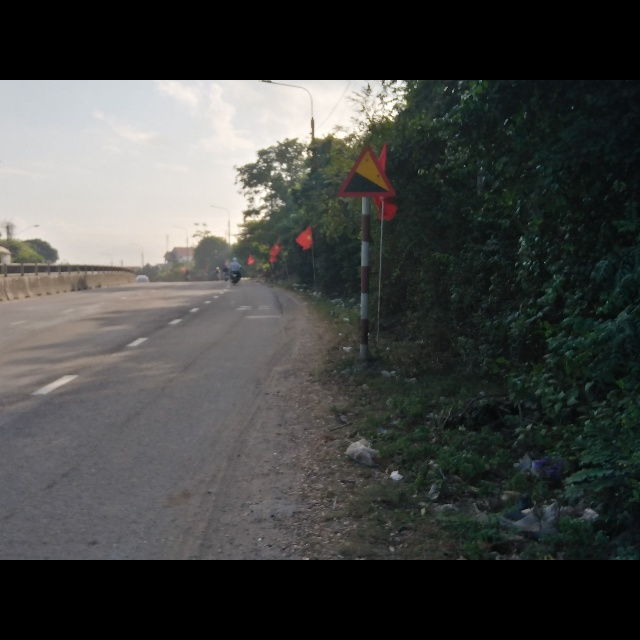Dốc lên nguy hiểm: (338, 145, 396, 198)
